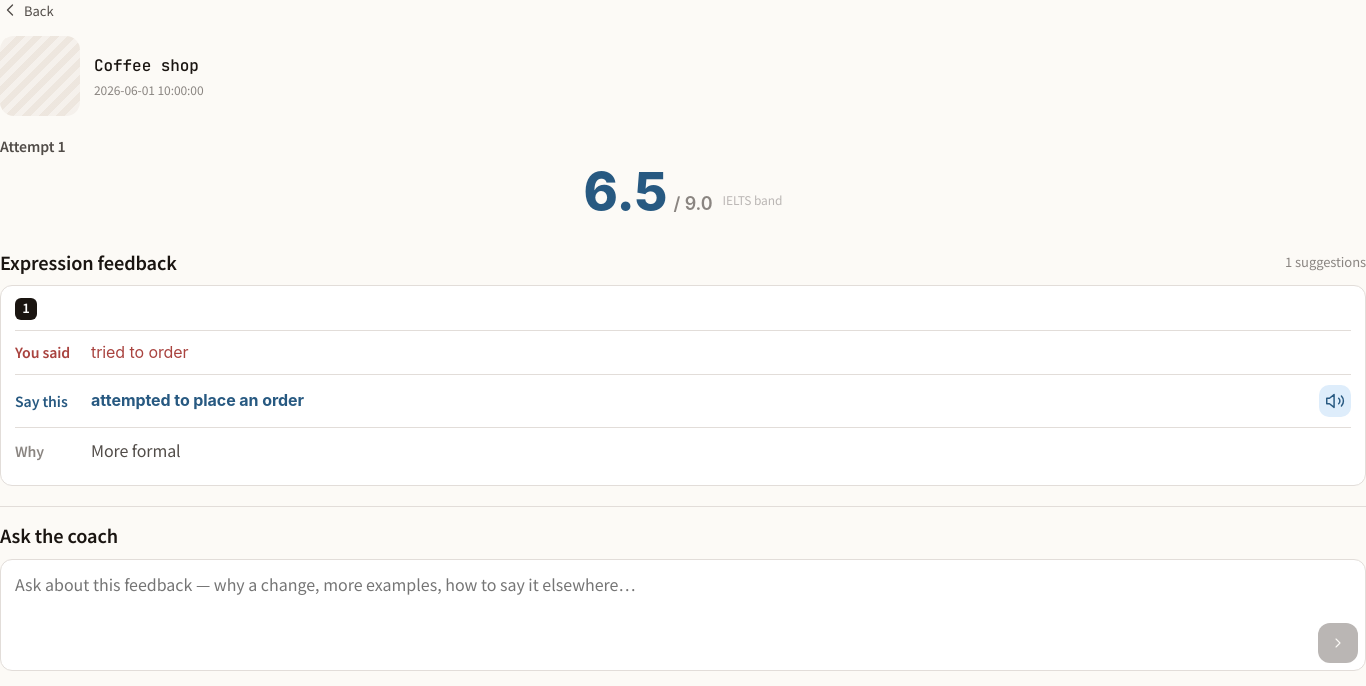
Test: SessionDetailPage › ask-the-coach: shows input on latest attempt and sends a question via chatStream
Check: the heading "Ask the coach" is shown, box x1=0 y1=522 x2=118 y2=548
Type "Why this change?" into the text box with placeholder "Ask about this feedback" at x=683, y=615, box x1=0 y1=559 x2=1365 y2=671
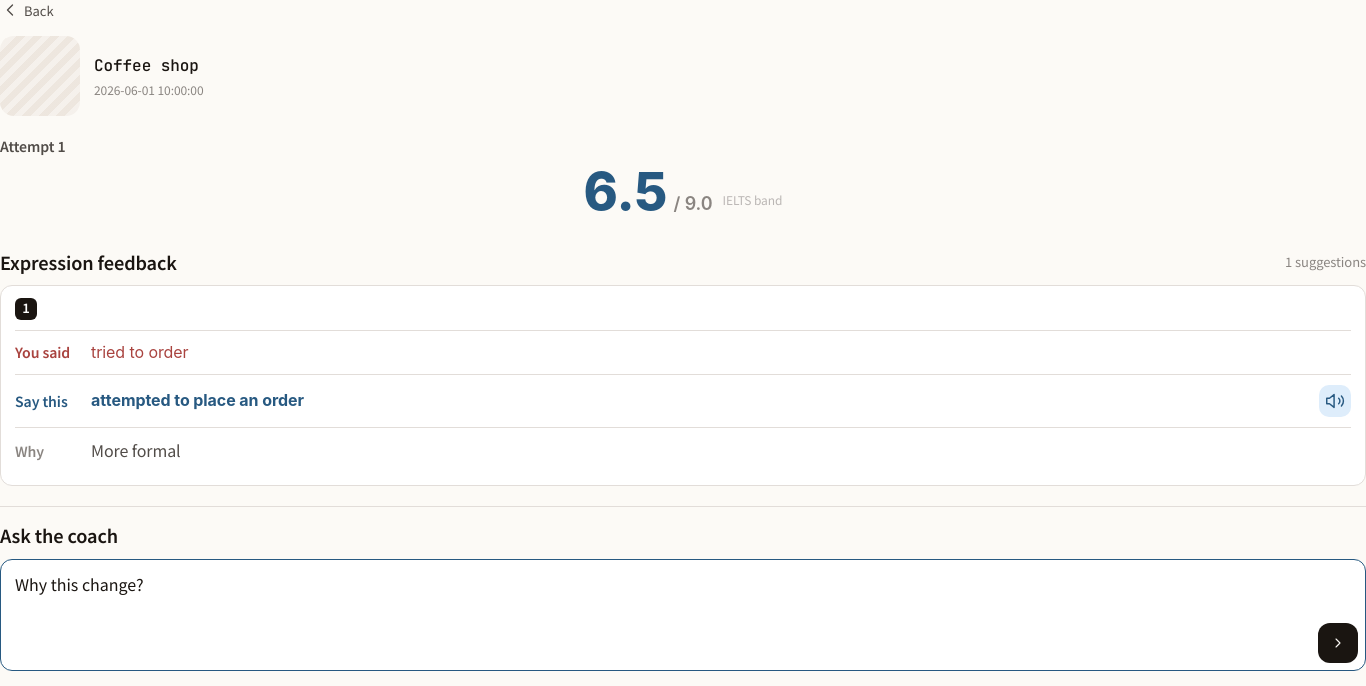
Note: 输入框旁的发送按钮（只含图标，无文字）
Click the 3rd button at x=1338, y=643, box x1=1318 y1=623 x2=1358 y2=663
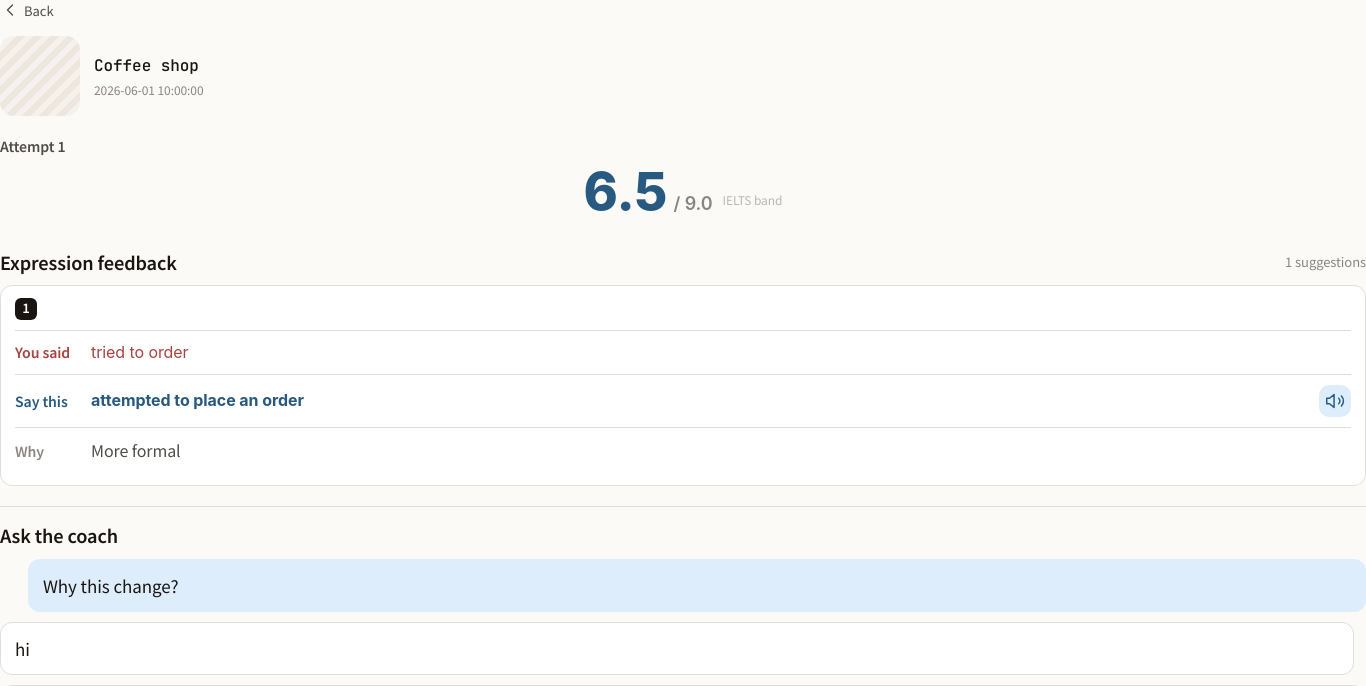
Check: the text "hi" is shown, box x1=0 y1=622 x2=1354 y2=675
